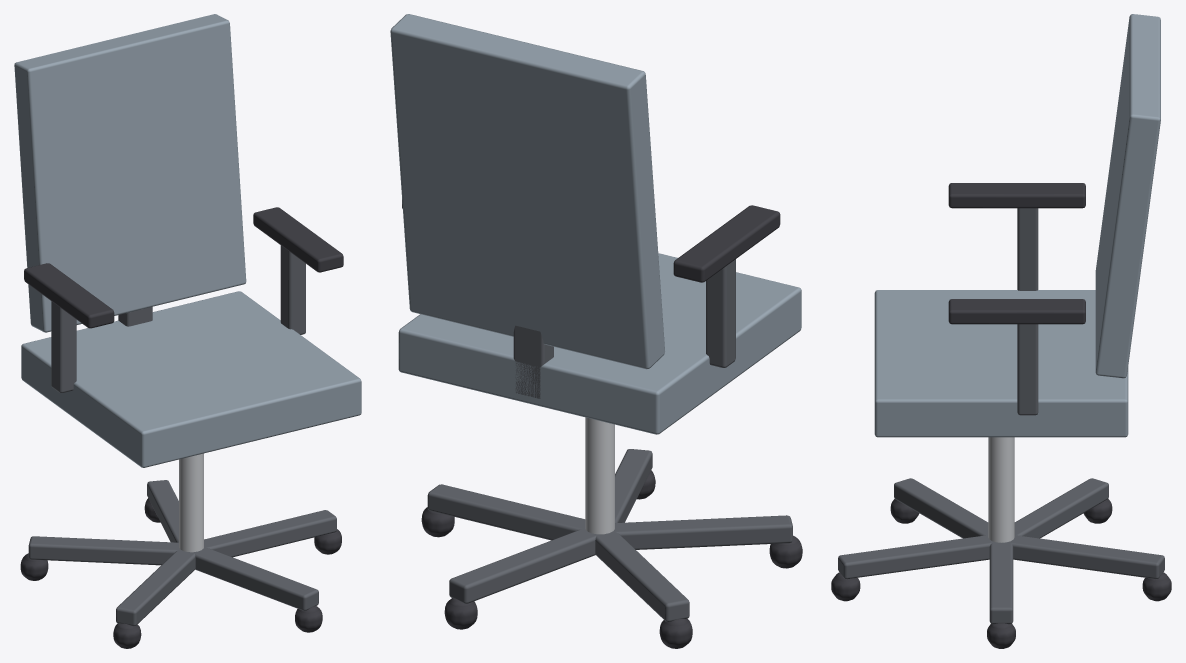
Rendered from SM_OfficeChair.fbx.
3 renders of one model, left to right at view 1: azimuth 30°, elevation 25°; view 2: azimuth 150°, elevation 25°; view 3: azimuth 270°, elevation 25°, orthographic. The views are drawn at different scales.
Parts seen in each view (by area): view 1: SM_OfficeChair; view 2: SM_OfficeChair; view 3: SM_OfficeChair.
Boxes of the visible parts, <box> form: SM_OfficeChair: <box>14,14,361,648</box>; SM_OfficeChair: <box>390,14,802,648</box>; SM_OfficeChair: <box>831,14,1171,648</box>.
Bounding box in the file's own units: 0.6271 × 1.08 × 0.6445.
